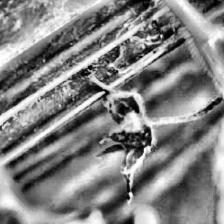Gray Mold: (90, 79, 180, 203)
